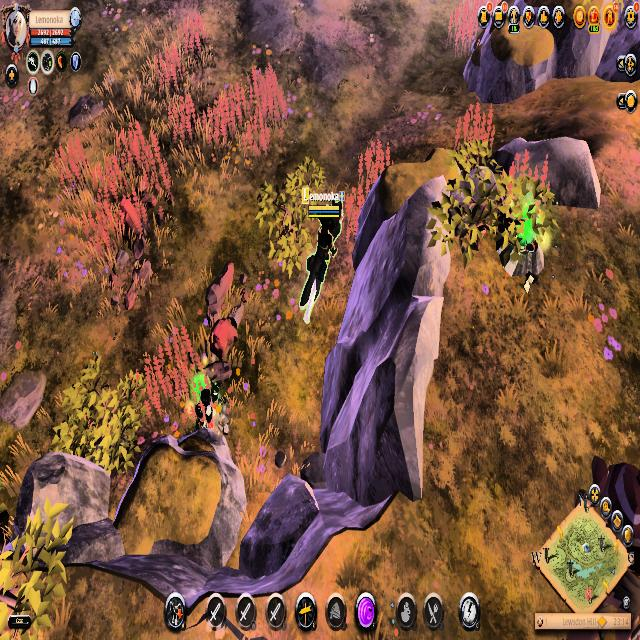ore tier 5: (190, 373, 229, 438)
